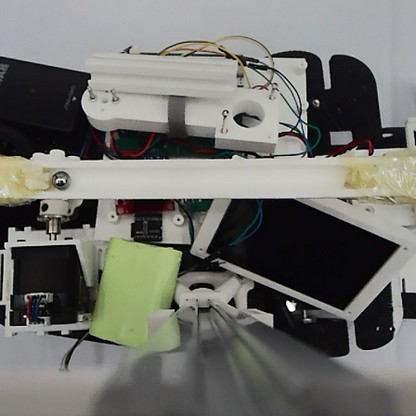ironball: (49, 169, 72, 190)
